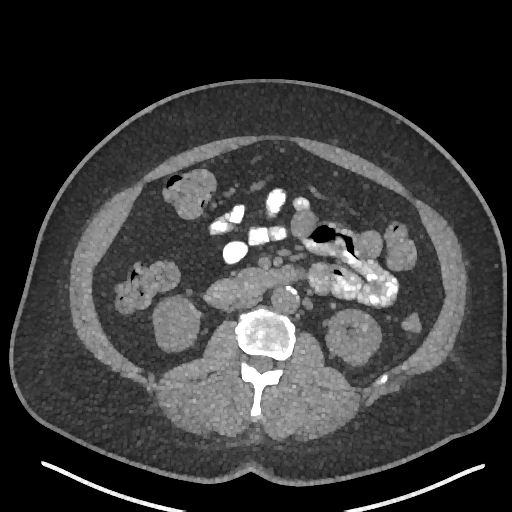Lesion: (362, 323, 370, 333)
